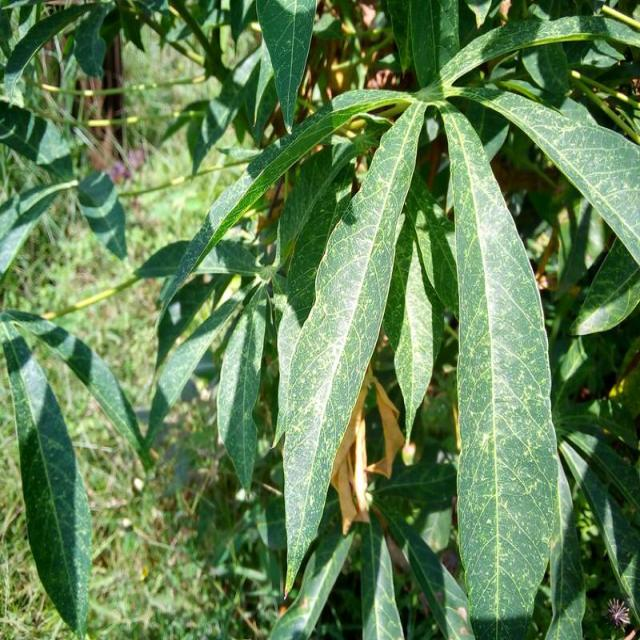cassava leaf: (278, 97, 428, 598), (438, 98, 560, 637), (1, 329, 92, 636)
